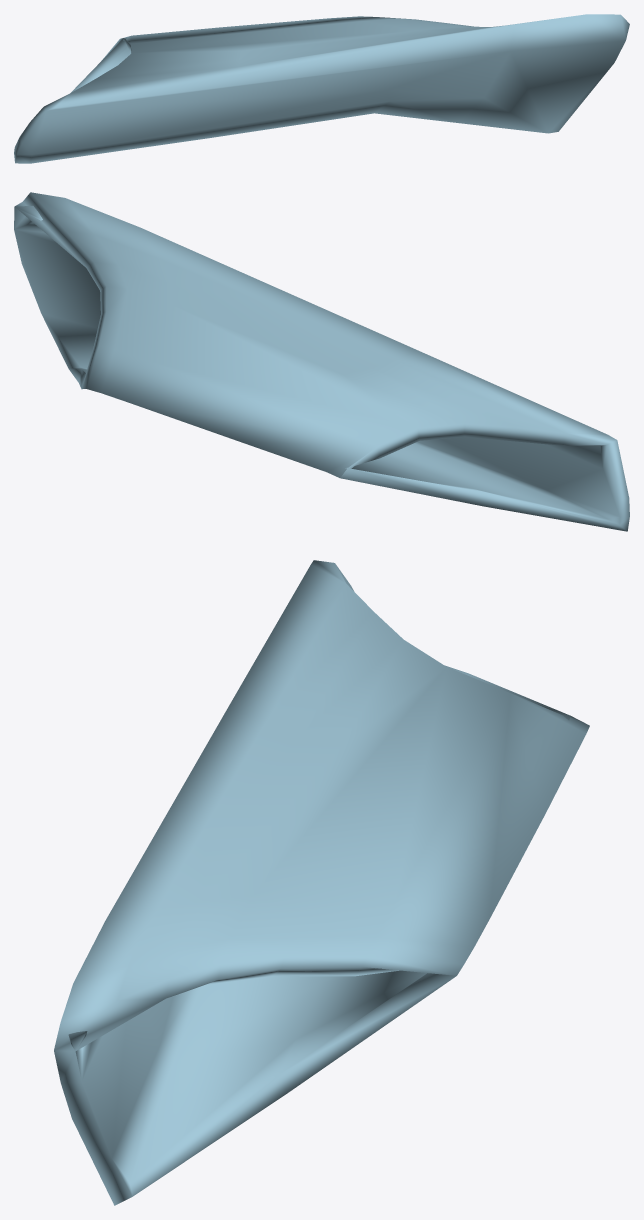
File: articulacoes-transverse-ligament-of-knee-l.glb
3 views of the same model, one above another, from view 1: azimuth 30°, elevation 25°; view 2: azimuth 150°, elevation 25°; view 3: azimuth 270°, elevation 25° (orthographic). The views are drawn at different scales.
Parts seen in each view (by area): view 1: Transverse ligament of knee.l; view 2: Transverse ligament of knee.l; view 3: Transverse ligament of knee.l.
Boxes of the visible parts, x1,y1,x2,y2 form: Transverse ligament of knee.l: [14, 14, 629, 163]; Transverse ligament of knee.l: [14, 192, 629, 531]; Transverse ligament of knee.l: [54, 560, 589, 1205].
Bounding box in the file's own units: 0.0285 × 0.00612 × 0.0123.
